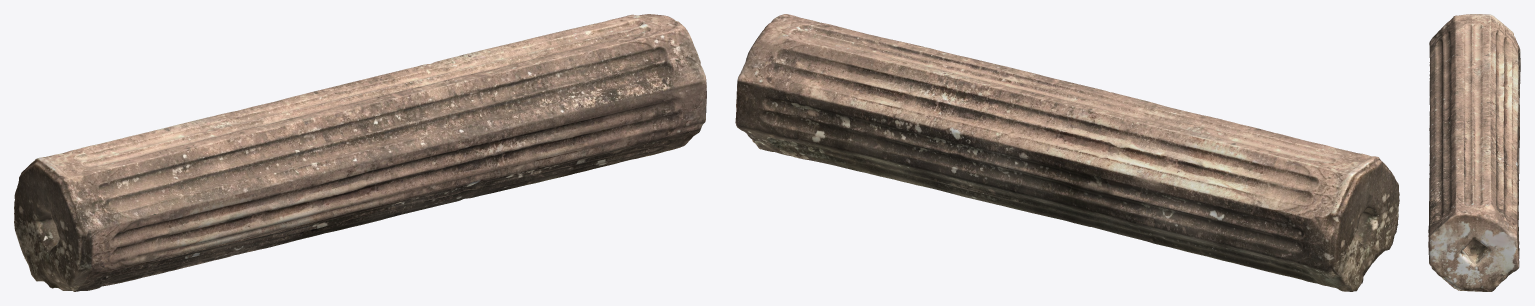
File: 25_MysonSanctuaryB_Trucot_final.glb
3 views of the same model, side by side, from view 1: azimuth 30°, elevation 25°; view 2: azimuth 150°, elevation 25°; view 3: azimuth 270°, elevation 25° (orthographic). The views are drawn at different scales.
Size of the model in its own units: 2.57 by 0.4887 by 0.503.
1 material, 1 textured.
